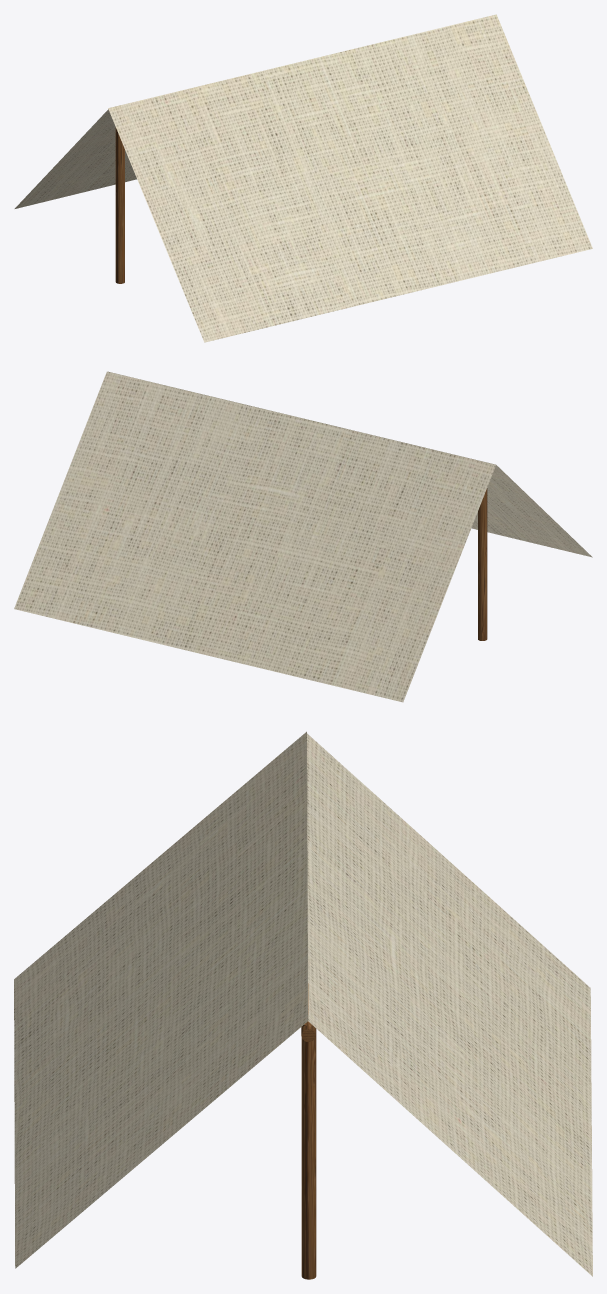
The model's file is Tent.fbx.
3 renders of one model, top to bottom at view 1: azimuth 30°, elevation 25°; view 2: azimuth 150°, elevation 25°; view 3: azimuth 270°, elevation 25°, orthographic. The views are drawn at different scales.
Visible parts, largest first — view 1: polySurface1, pCylinder3; view 2: polySurface1, pCylinder3; view 3: polySurface1, pCylinder2.
Boxes of the visible parts, left/top/right/bottom form: polySurface1: left=14, top=14, right=592, bottom=342; pCylinder3: left=115, top=127, right=124, bottom=283; polySurface1: left=14, top=371, right=592, bottom=702; pCylinder3: left=478, top=488, right=487, bottom=640; polySurface1: left=14, top=731, right=592, bottom=1276; pCylinder2: left=301, top=1023, right=316, bottom=1279.
Size of the model in its own units: 16.51 by 7.18 by 14.01.
2 materials, 2 textured.
